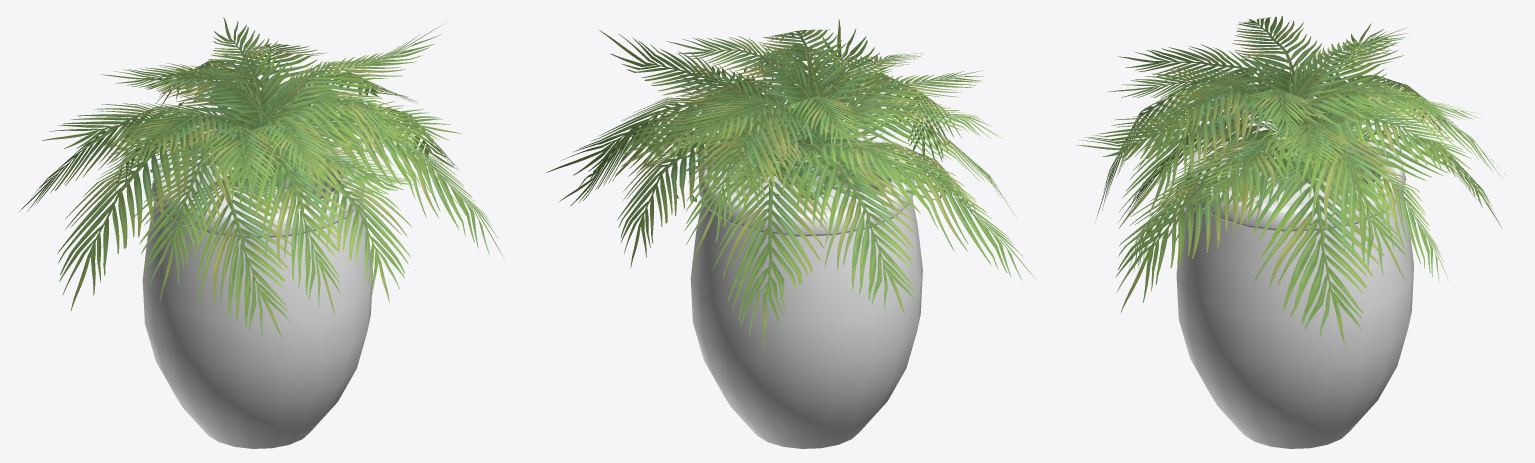
The model's file is SM_Potted_Palm_A.fbx.
3 views of the same model, side by side, from view 1: azimuth 30°, elevation 25°; view 2: azimuth 150°, elevation 25°; view 3: azimuth 270°, elevation 25° (orthographic). The views are drawn at different scales.
Parts seen in each view (by area): view 1: SM_Potted_Palm_A_LOD0; view 2: SM_Potted_Palm_A_LOD0; view 3: SM_Potted_Palm_A_LOD0.
Boxes of the visible parts, bbox=[...] form: SM_Potted_Palm_A_LOD0: bbox=[19, 17, 504, 448]; SM_Potted_Palm_A_LOD0: bbox=[546, 19, 1036, 448]; SM_Potted_Palm_A_LOD0: bbox=[1076, 16, 1512, 448].
Size of the model in its own units: 138 by 120 by 107.
2 materials, 1 textured.
